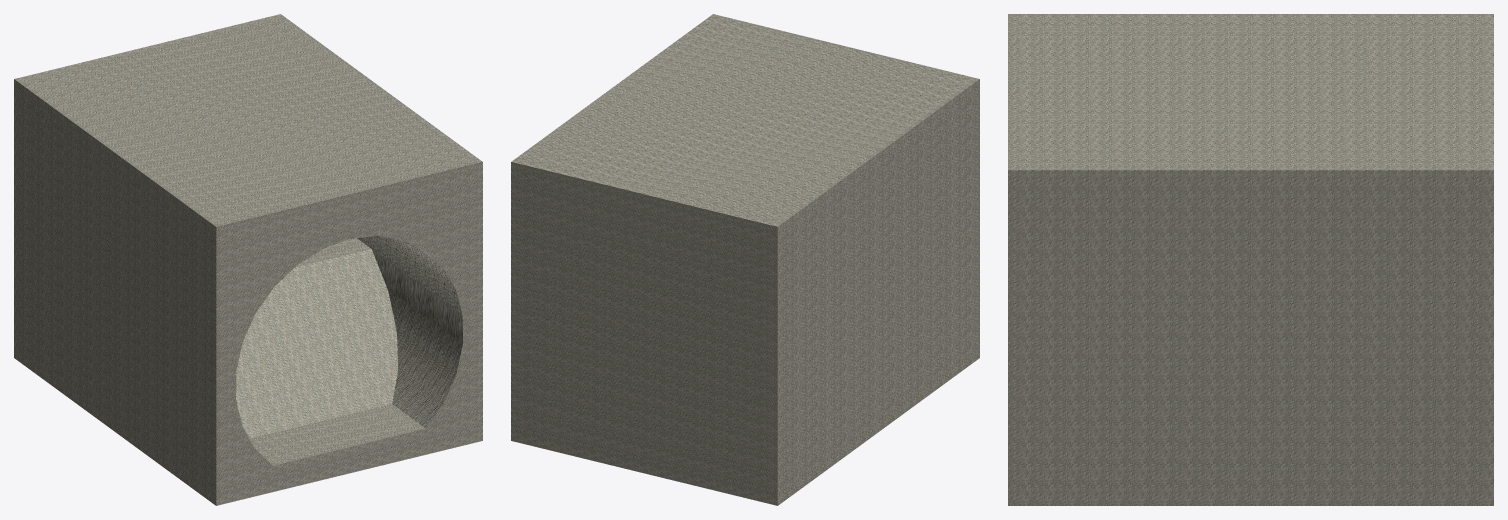
The model's file is ExcavTwoStep1.glb.
3 views of the same model, side by side, from view 1: azimuth 30°, elevation 25°; view 2: azimuth 150°, elevation 25°; view 3: azimuth 270°, elevation 25° (orthographic). The views are drawn at different scales.
Bounding box in the file's own units: 16 × 16 × 21.
Materials: 1 (1 with a texture image).
